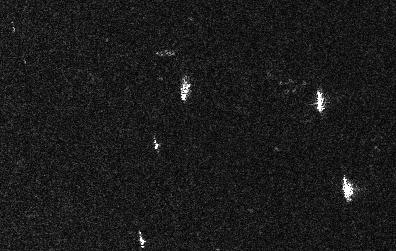ship: (339, 175, 356, 203), (179, 77, 193, 102), (313, 89, 326, 114), (135, 230, 147, 250), (150, 138, 161, 151)
